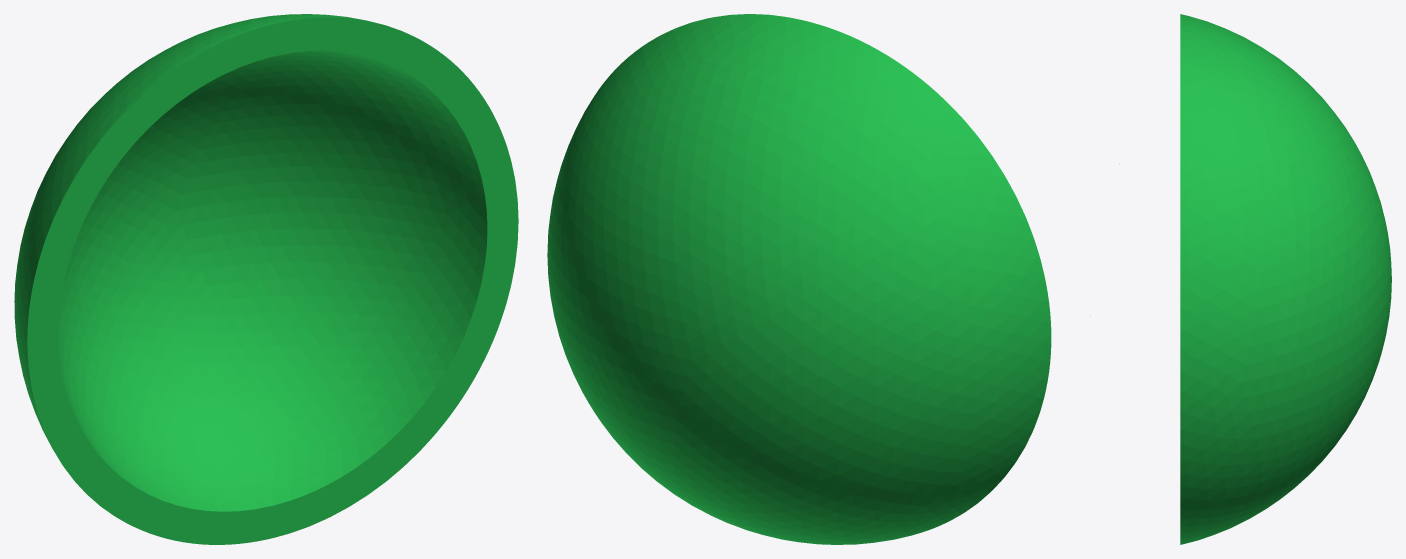
The model's file is Hole.obj.
3 views of the same model, side by side, from view 1: azimuth 30°, elevation 25°; view 2: azimuth 150°, elevation 25°; view 3: azimuth 270°, elevation 25° (orthographic). The views are drawn at different scales.
Visible parts, largest first — view 1: Object.2; view 2: Object.2; view 3: Object.2.
Boxes of the visible parts, bbox=[...] form: Object.2: bbox=[14, 14, 518, 544]; Object.2: bbox=[547, 14, 1051, 544]; Object.2: bbox=[1180, 14, 1391, 544].
Size of the model in its own units: 39.49 by 38.96 by 20.02.
